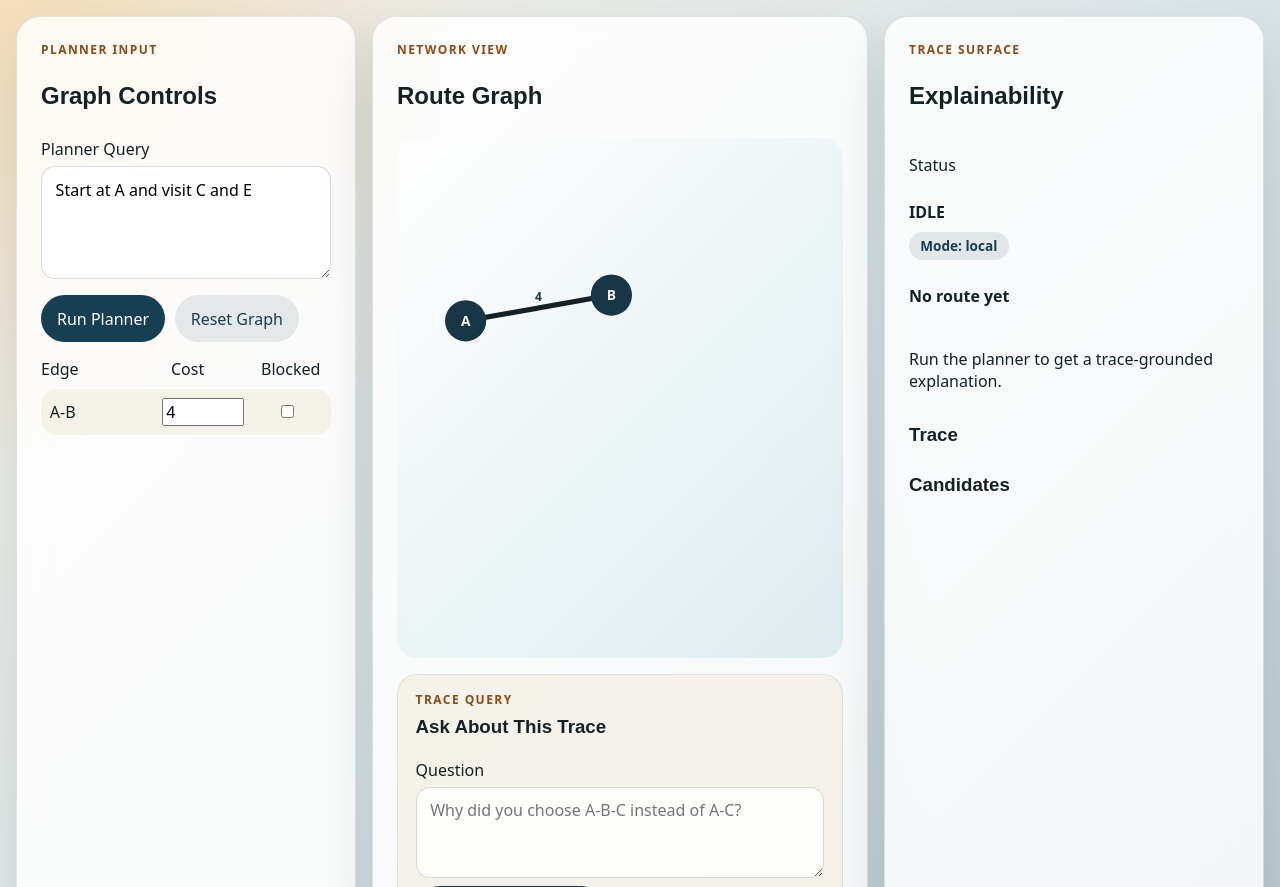
App › runs the planner and renders summary, trace, and candidates
Replace the text in the text box with test id "planner-query" with "Start at A and visit B" at (186, 223), box x1=41 y1=166 x2=331 y2=279
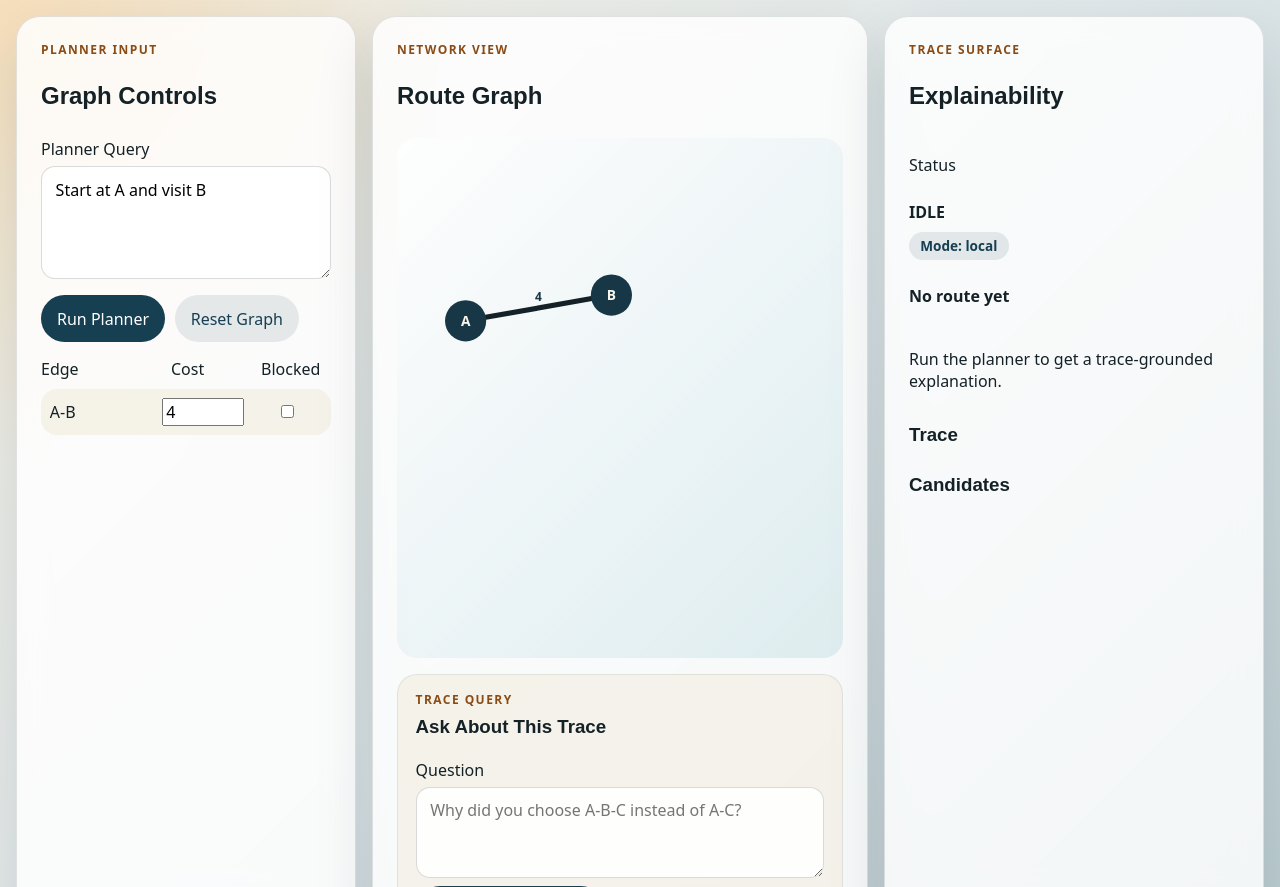
Click the button with test id "run-planner" at (103, 319), box x1=41 y1=295 x2=165 y2=342
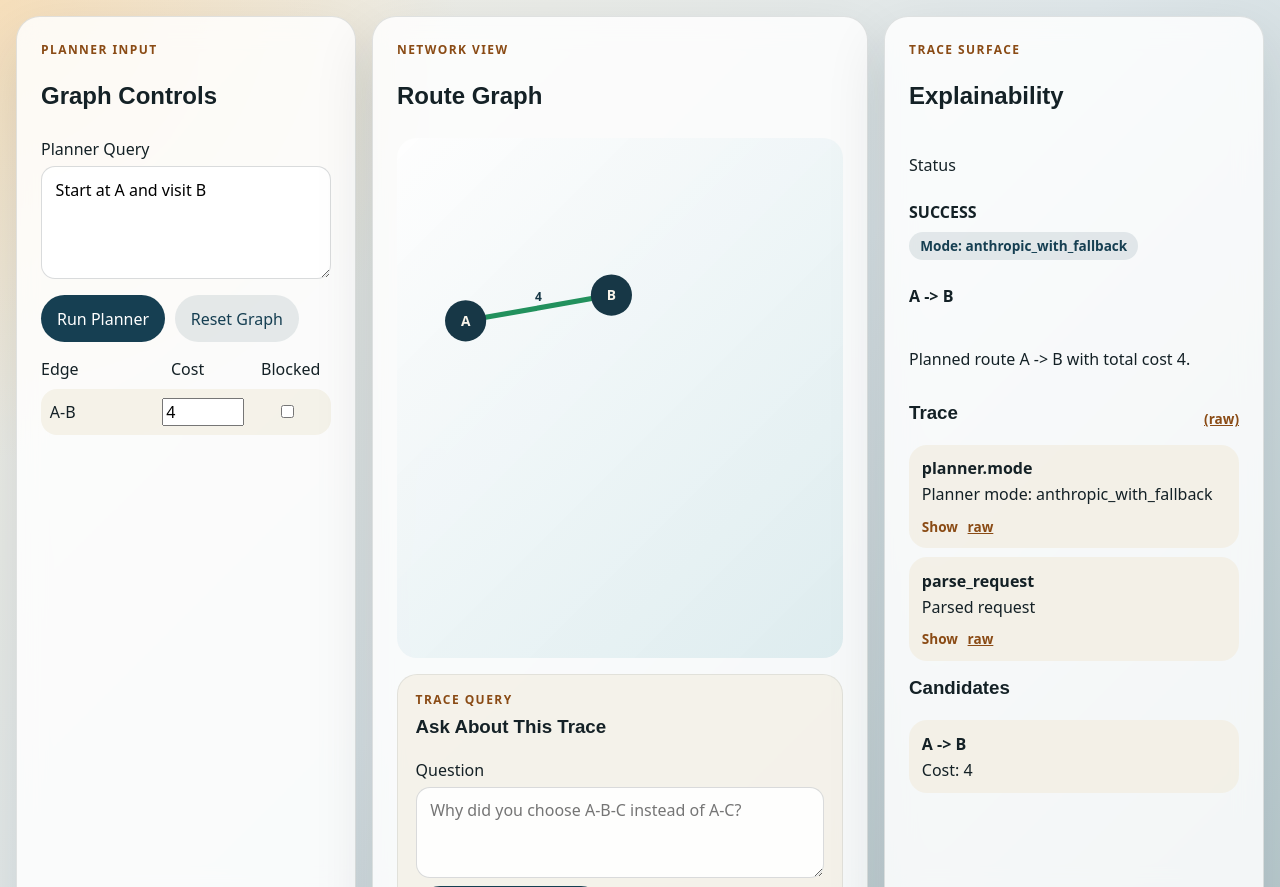
Expected: the text with test id "summary-route" reads "A -> B", x1=909 y1=285 x2=953 y2=307
Expected: the text with test id "planner-mode-flag" shows "anthropic_with_fallback", x1=920 y1=236 x2=1127 y2=255
Expected: the button with test id "trace-step-1" shows "parse_request", x1=909 y1=557 x2=1239 y2=661
